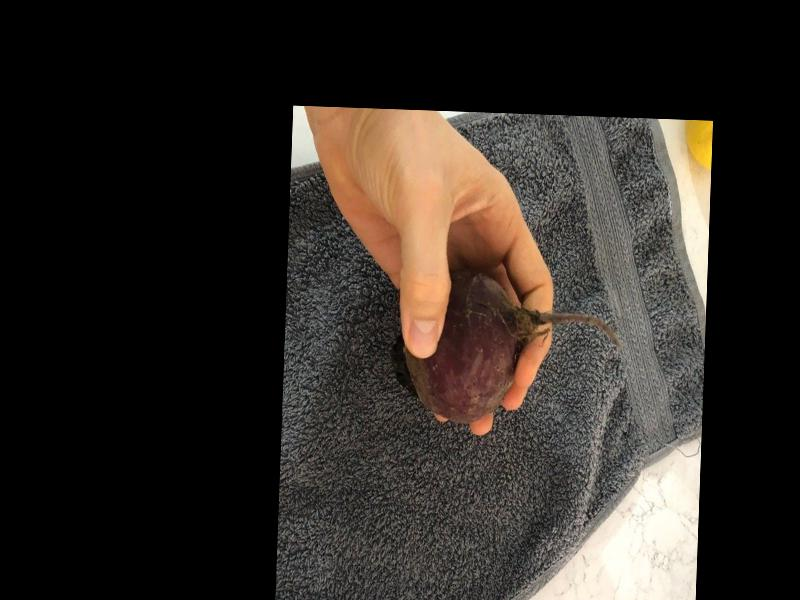Beet: (389, 267, 623, 428)
